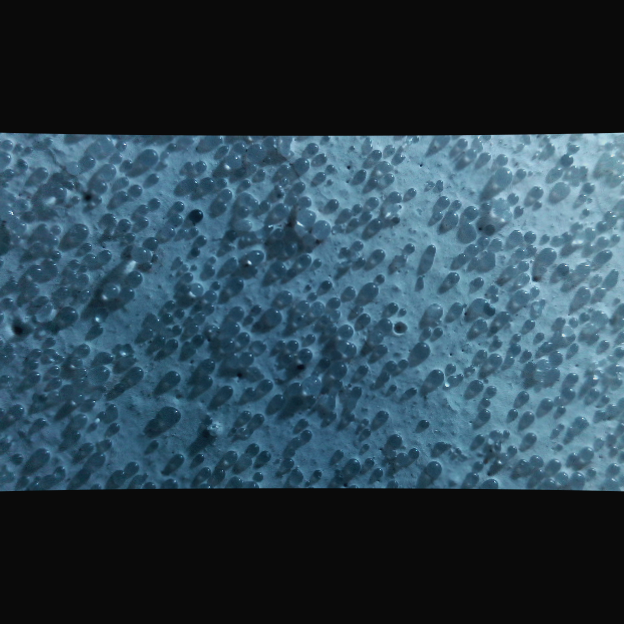GrassBeadSeg: (117, 139, 613, 471), (0, 151, 495, 463), (67, 160, 543, 464), (2, 144, 607, 377), (52, 144, 480, 471), (122, 186, 561, 468), (96, 203, 561, 468), (10, 172, 428, 462), (263, 137, 619, 470), (2, 138, 531, 357), (23, 166, 527, 394), (106, 174, 559, 427), (61, 137, 488, 404), (74, 161, 502, 424), (137, 215, 593, 458), (102, 162, 574, 396), (21, 208, 486, 442), (103, 249, 594, 458), (98, 142, 555, 362), (169, 213, 532, 462), (149, 185, 547, 407), (92, 200, 492, 406), (118, 220, 441, 474), (35, 165, 535, 327), (17, 163, 335, 415), (72, 242, 567, 401), (129, 183, 414, 458), (44, 159, 486, 333), (101, 179, 501, 365), (188, 216, 599, 396), (102, 200, 398, 449), (210, 239, 517, 479), (85, 178, 501, 354), (214, 286, 590, 477), (71, 194, 474, 372), (292, 181, 563, 445), (321, 160, 587, 427), (140, 147, 530, 329), (71, 198, 589, 333), (121, 247, 518, 417), (251, 208, 518, 453), (84, 283, 609, 404), (189, 270, 535, 443), (165, 215, 549, 369), (185, 139, 416, 394), (43, 165, 285, 405), (196, 169, 521, 344), (102, 212, 455, 373), (69, 205, 308, 440), (371, 206, 586, 465), (128, 159, 540, 294), (36, 222, 578, 324), (379, 228, 600, 476), (124, 191, 396, 391), (49, 204, 363, 375), (283, 259, 529, 468), (350, 144, 566, 369), (288, 147, 477, 394), (77, 342, 537, 442), (56, 250, 481, 358), (221, 178, 483, 349), (133, 245, 344, 456), (46, 163, 290, 345), (200, 225, 374, 476), (113, 194, 311, 414), (395, 161, 565, 413), (145, 223, 355, 422), (247, 247, 484, 419), (27, 220, 575, 294), (93, 179, 399, 311), (202, 319, 572, 428), (81, 154, 536, 242), (27, 254, 366, 369), (77, 179, 444, 285), (221, 185, 487, 329), (126, 295, 341, 471), (236, 325, 567, 438), (72, 222, 325, 369), (384, 184, 540, 419), (81, 163, 207, 453), (34, 315, 281, 461), (335, 205, 477, 457), (43, 360, 397, 461), (281, 194, 449, 405), (253, 217, 383, 480), (42, 358, 551, 425), (72, 193, 339, 320), (49, 143, 350, 253), (56, 160, 205, 374), (201, 156, 567, 243), (56, 228, 523, 296), (148, 172, 259, 453), (190, 143, 395, 294), (351, 230, 530, 397), (51, 357, 527, 419), (10, 297, 608, 346), (158, 262, 317, 446), (55, 184, 479, 253), (173, 247, 386, 383), (51, 249, 311, 360), (321, 278, 576, 391), (103, 282, 390, 380), (63, 231, 207, 424), (457, 251, 587, 464), (85, 228, 237, 406), (15, 149, 471, 208), (127, 269, 264, 462), (333, 262, 541, 389), (84, 205, 523, 265), (77, 235, 338, 335), (174, 241, 415, 349), (35, 359, 408, 426), (282, 301, 529, 400), (0, 264, 109, 480), (32, 255, 285, 348), (282, 182, 595, 254), (150, 164, 250, 387), (92, 263, 280, 380), (33, 277, 511, 323), (216, 177, 550, 241), (352, 152, 572, 249), (225, 194, 311, 441), (361, 179, 461, 390), (0, 397, 251, 479), (261, 305, 393, 460), (317, 152, 541, 242), (28, 370, 394, 423), (148, 187, 416, 259), (197, 156, 389, 255), (171, 275, 484, 335), (248, 143, 331, 367), (358, 239, 521, 353), (45, 348, 243, 439), (496, 166, 578, 380), (151, 177, 216, 446), (7, 167, 352, 217), (127, 276, 273, 390), (239, 185, 308, 426), (133, 317, 392, 381), (15, 158, 401, 200), (372, 148, 429, 427), (198, 374, 361, 471), (70, 331, 544, 364), (91, 142, 319, 209), (219, 296, 370, 396), (239, 178, 381, 283), (286, 247, 430, 350), (87, 323, 198, 451), (518, 134, 618, 274), (407, 290, 540, 395), (259, 153, 507, 209), (191, 202, 288, 344), (206, 140, 275, 335), (18, 142, 334, 184), (14, 269, 77, 478), (5, 151, 490, 177), (418, 275, 623, 336), (425, 205, 535, 318), (447, 180, 569, 281), (203, 180, 305, 300), (156, 334, 236, 487), (108, 421, 350, 470), (80, 326, 153, 482), (116, 190, 589, 214), (337, 340, 523, 401), (122, 158, 205, 294), (185, 160, 372, 220), (372, 154, 459, 281), (298, 213, 373, 359), (2, 136, 222, 185), (438, 143, 581, 217), (239, 299, 326, 419), (489, 236, 597, 332), (1, 292, 107, 389), (76, 202, 220, 267), (567, 149, 616, 336), (297, 172, 394, 265), (225, 153, 263, 389), (369, 134, 504, 200), (331, 363, 491, 418), (503, 141, 615, 218), (226, 177, 364, 239), (68, 247, 184, 319), (489, 324, 622, 386), (93, 170, 326, 205), (290, 363, 369, 466), (194, 350, 265, 461), (31, 346, 90, 479), (202, 252, 549, 274), (218, 200, 280, 323), (99, 250, 205, 321), (452, 142, 495, 316), (488, 205, 517, 453), (250, 288, 293, 453), (238, 205, 313, 299), (214, 287, 354, 337), (291, 201, 407, 261), (173, 142, 214, 311), (361, 426, 529, 467), (0, 137, 20, 478), (441, 188, 572, 240), (53, 188, 198, 234), (37, 366, 88, 487), (290, 256, 322, 445), (4, 342, 124, 391), (190, 245, 557, 261), (244, 134, 330, 202), (133, 337, 176, 471), (304, 400, 369, 484), (213, 134, 271, 228), (420, 275, 506, 337), (545, 142, 606, 229), (129, 327, 230, 379), (178, 188, 284, 237), (481, 223, 612, 260), (28, 172, 74, 277), (434, 205, 471, 335), (496, 429, 583, 484), (474, 428, 564, 481), (428, 161, 623, 185), (337, 442, 466, 478), (228, 284, 356, 320), (399, 307, 458, 384), (376, 378, 483, 419), (81, 240, 436, 252), (160, 270, 188, 422), (459, 376, 497, 487), (164, 368, 445, 383), (307, 275, 480, 298), (388, 352, 430, 446), (201, 357, 501, 370), (3, 222, 49, 306), (11, 403, 251, 419), (36, 346, 65, 474), (457, 293, 499, 380), (91, 323, 347, 337), (467, 450, 579, 482), (225, 165, 237, 460), (497, 236, 591, 273), (91, 372, 233, 396), (335, 340, 430, 375), (472, 138, 512, 217), (518, 340, 592, 382), (84, 265, 190, 294), (353, 152, 404, 212), (554, 362, 623, 406), (498, 169, 592, 201), (398, 368, 437, 445), (105, 146, 149, 212), (414, 331, 437, 457), (297, 252, 313, 427), (228, 276, 350, 298), (184, 177, 269, 208), (154, 172, 300, 190), (173, 196, 372, 209), (361, 432, 447, 462), (515, 272, 601, 302), (564, 272, 606, 333), (66, 135, 112, 190), (121, 268, 208, 297), (350, 217, 406, 262), (470, 284, 498, 372), (234, 141, 278, 197), (177, 327, 284, 350), (237, 304, 366, 323), (211, 187, 232, 299), (375, 266, 523, 281), (553, 211, 618, 245), (0, 255, 47, 302), (130, 311, 172, 362), (240, 192, 297, 229), (1, 407, 28, 485), (43, 136, 174, 152), (61, 420, 97, 473), (552, 165, 581, 230), (9, 154, 36, 221), (549, 262, 569, 351), (508, 181, 592, 202), (210, 339, 266, 370), (256, 466, 384, 479), (549, 349, 621, 372), (51, 389, 106, 418), (139, 203, 176, 246), (370, 195, 514, 206), (182, 262, 295, 276), (364, 456, 483, 469), (230, 468, 321, 485), (318, 469, 399, 488), (451, 365, 489, 405), (492, 341, 558, 363), (542, 339, 623, 356), (107, 175, 132, 230), (244, 386, 316, 405), (380, 159, 401, 223), (45, 295, 108, 316), (196, 233, 220, 287), (51, 180, 75, 234), (282, 324, 315, 363), (118, 175, 212, 188), (373, 314, 404, 353), (160, 415, 185, 463), (247, 165, 266, 228), (5, 353, 136, 362), (595, 319, 620, 366), (474, 295, 512, 325), (555, 401, 616, 418), (494, 457, 544, 477), (353, 308, 384, 340), (0, 391, 58, 408), (433, 208, 473, 232), (150, 225, 176, 260), (543, 459, 573, 489), (292, 282, 313, 324), (14, 225, 60, 244), (461, 221, 481, 264), (224, 282, 240, 335), (99, 451, 127, 481), (7, 277, 75, 289), (503, 425, 575, 436), (361, 281, 379, 323), (527, 233, 563, 254), (522, 396, 553, 420), (305, 313, 330, 342), (246, 255, 286, 273), (75, 378, 119, 393), (0, 206, 26, 230), (579, 467, 611, 486), (607, 406, 623, 441), (471, 235, 489, 266), (541, 470, 568, 490), (173, 227, 188, 263), (393, 451, 408, 486), (331, 303, 363, 319), (585, 239, 619, 253), (143, 256, 182, 268), (505, 252, 525, 275), (152, 317, 168, 345), (493, 332, 522, 347), (596, 252, 606, 295), (600, 368, 621, 388), (611, 445, 623, 479), (596, 223, 612, 247), (590, 332, 599, 367), (501, 428, 511, 459), (94, 409, 108, 430), (324, 307, 341, 324), (516, 245, 537, 257), (0, 343, 13, 362), (594, 433, 611, 447), (512, 268, 530, 281), (25, 474, 41, 488), (448, 372, 464, 386), (241, 192, 258, 205), (606, 159, 622, 172), (606, 473, 622, 485), (492, 428, 501, 449), (569, 164, 589, 173), (15, 144, 34, 153), (584, 226, 596, 239), (356, 167, 367, 180), (591, 368, 599, 382), (27, 358, 39, 367), (79, 272, 89, 282), (610, 231, 620, 241)
